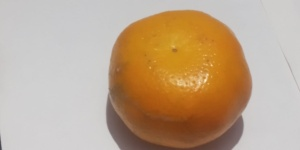BAD: (105, 7, 255, 150)
